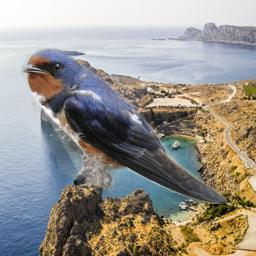Swallow: (20, 47, 227, 204)
